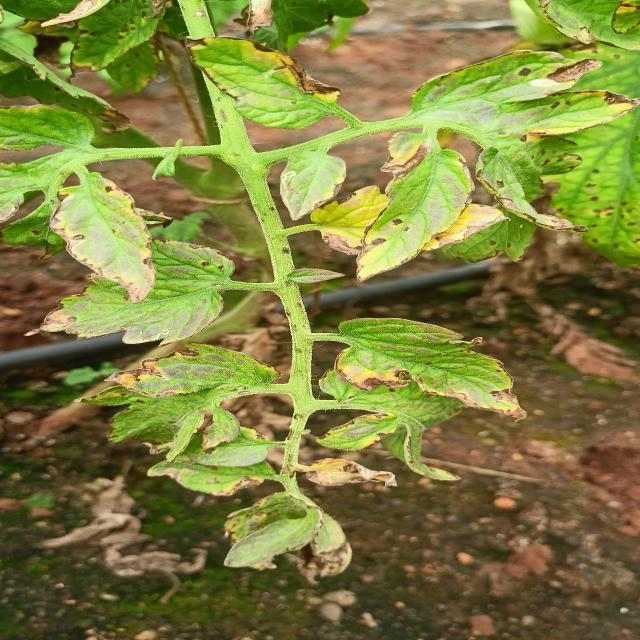Tomato mosaic virus leaf: (480, 48, 640, 238), (328, 314, 534, 422), (347, 144, 480, 286), (173, 28, 347, 131), (36, 171, 164, 303), (96, 338, 286, 409), (166, 230, 250, 284), (303, 455, 399, 490)
